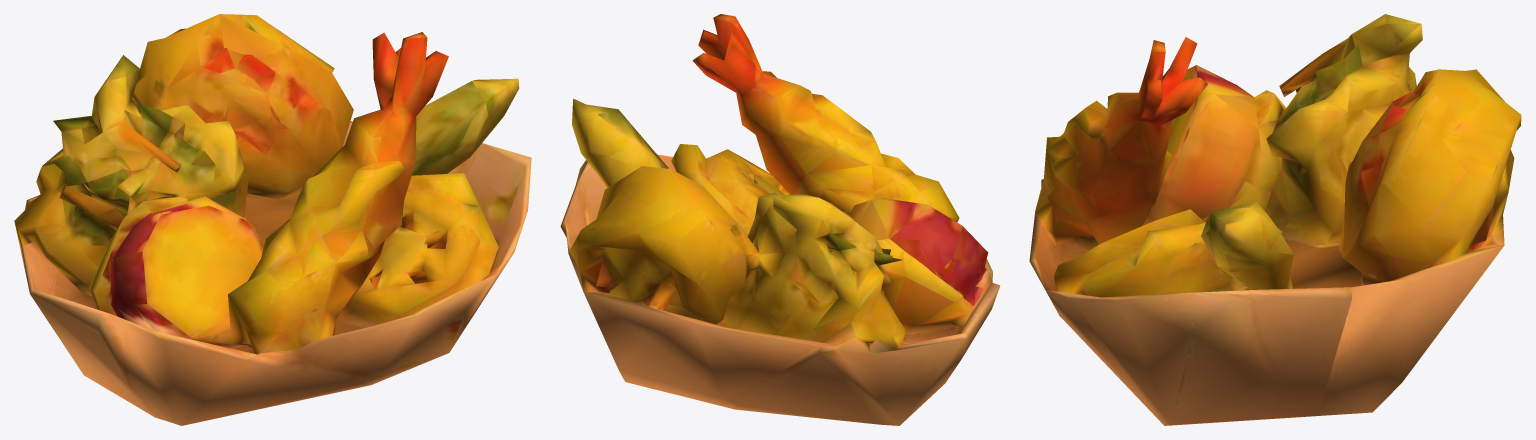
The picture shows the model from 3 angles, left to right: view 1: azimuth 30°, elevation 25°; view 2: azimuth 150°, elevation 25°; view 3: azimuth 270°, elevation 25°; orthographic projection. The views are drawn at different scales.
Visible parts, largest first — view 1: twigim; view 2: twigim; view 3: twigim.
Boxes of the visible parts, <box> form: twigim: <box>14,14,531,425</box>; twigim: <box>560,14,1000,425</box>; twigim: <box>1029,14,1521,425</box>.
Bounding box in the file's own units: 0.1797 × 0.1238 × 0.152.
Materials: 1 (1 with a texture image).
